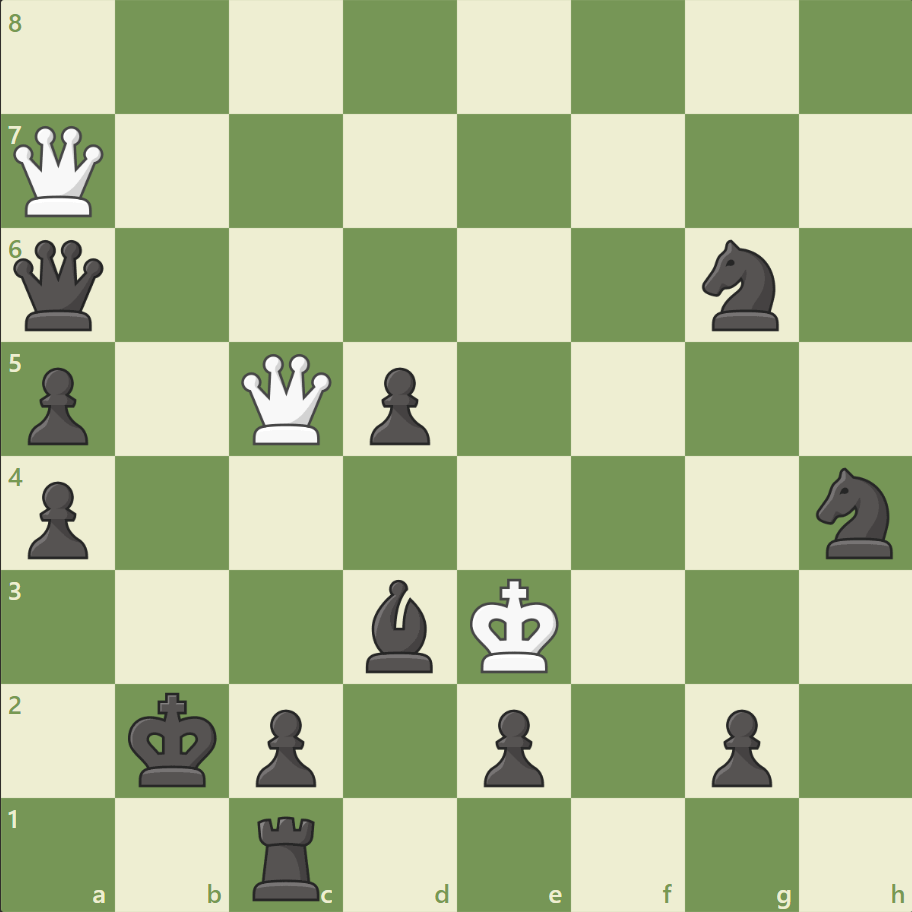K: (465, 571, 565, 679)
Q: (10, 122, 109, 222), (237, 349, 336, 449)
b: (358, 574, 442, 676)
k: (124, 685, 224, 793)
n: (692, 234, 789, 337), (806, 461, 903, 564)
p: (20, 359, 95, 450), (20, 473, 95, 564), (247, 700, 322, 791), (474, 700, 549, 791), (701, 700, 776, 791), (361, 359, 435, 450)
q: (10, 236, 109, 335)
r: (246, 806, 329, 904)
